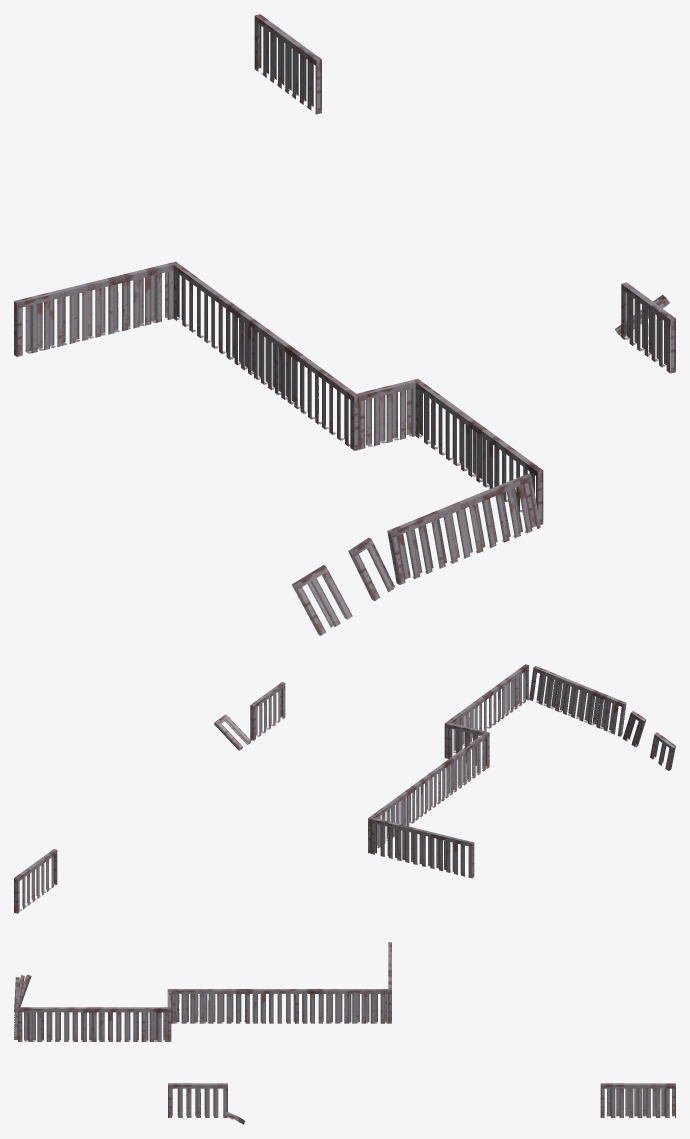
The model's file is p3_railing.fbx.
3 renders of one model, top to bottom at view 1: azimuth 30°, elevation 25°; view 2: azimuth 150°, elevation 25°; view 3: azimuth 270°, elevation 25°, orthographic. The views are drawn at different scales.
Parts seen in each view (by area): view 1: railings; view 2: railings; view 3: railings.
Part boxes in pixels (left/top/right/bottom): railings: left=14, top=14, right=675, bottom=635; railings: left=14, top=664, right=675, bottom=913; railings: left=14, top=942, right=675, bottom=1124.
Size of the model in its own units: 144 by 28.02 by 248.
1 material, 1 textured.
